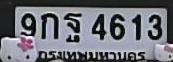1: (131, 13, 141, 40)
3: (147, 13, 163, 40)
4: (91, 13, 107, 40)
6: (109, 13, 125, 40)
9: (20, 12, 36, 37)
A01: (40, 12, 59, 40)
A16: (63, 12, 82, 43)
BKK: (36, 47, 150, 62)
